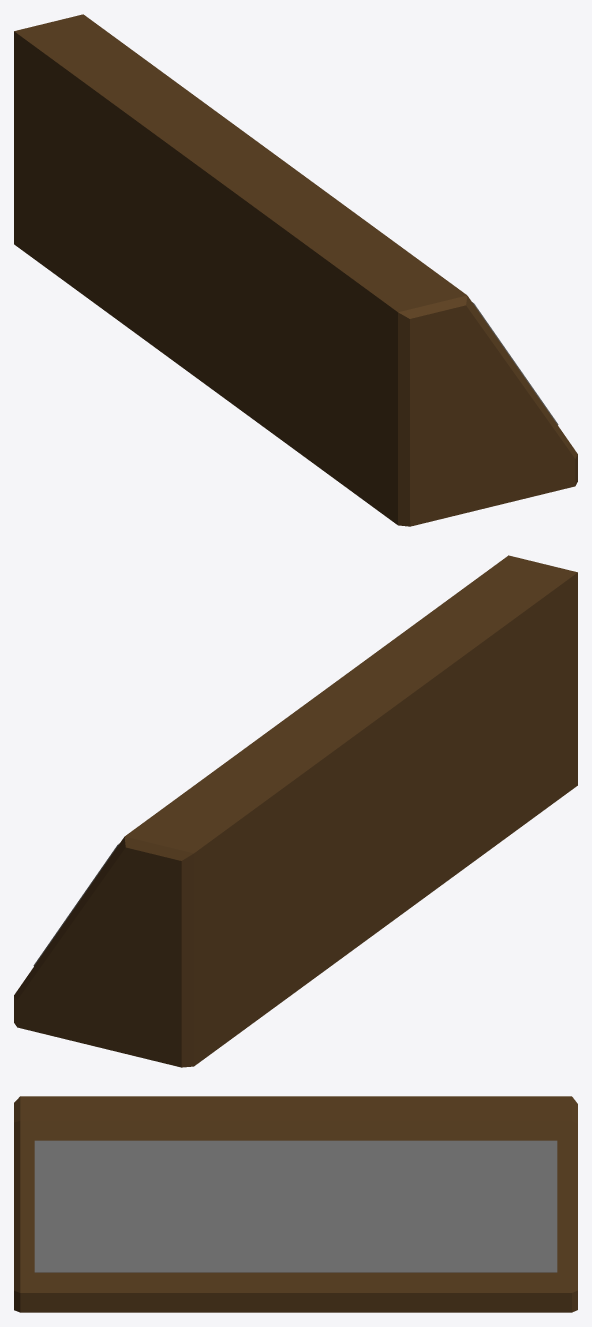
Rendered from Tablon.fbx.
The picture shows the model from 3 angles, top to bottom: view 1: azimuth 30°, elevation 25°; view 2: azimuth 150°, elevation 25°; view 3: azimuth 270°, elevation 25°; orthographic projection. The views are drawn at different scales.
Parts seen in each view (by area): view 1: TablonNombre; view 2: TablonNombre; view 3: TablonNombre.
Boxes of the visible parts, x1,y1,x2,y2 form: TablonNombre: [14, 14, 577, 526]; TablonNombre: [14, 555, 577, 1067]; TablonNombre: [14, 1096, 577, 1312].
Size of the model in its own units: 217 by 246 by 822.
